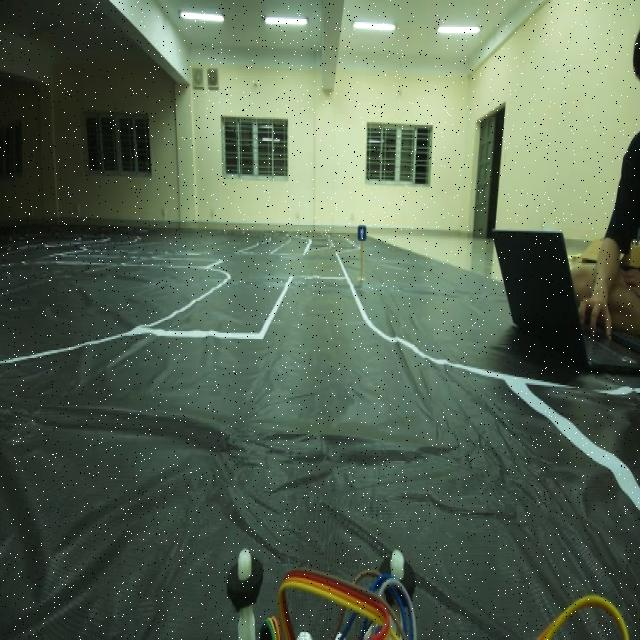onewayroad: (352, 216, 370, 253)
